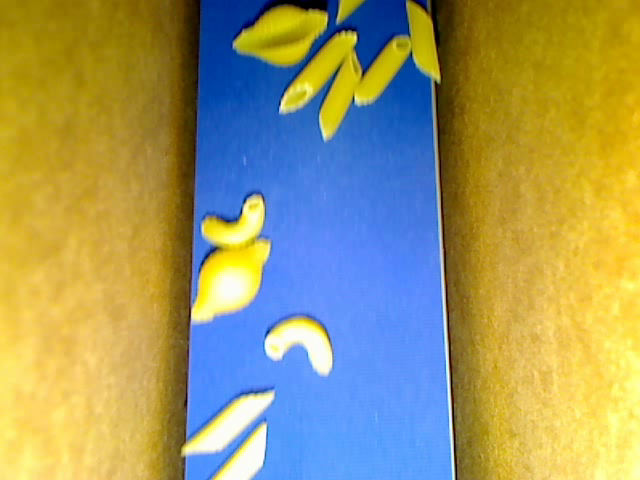elbow: (264, 314, 334, 376), (201, 191, 268, 248)
penne: (279, 28, 358, 115), (180, 389, 274, 454), (317, 49, 362, 141), (354, 35, 411, 106), (207, 421, 267, 478), (405, 1, 440, 82)
shell: (190, 238, 272, 323), (233, 4, 328, 68)
